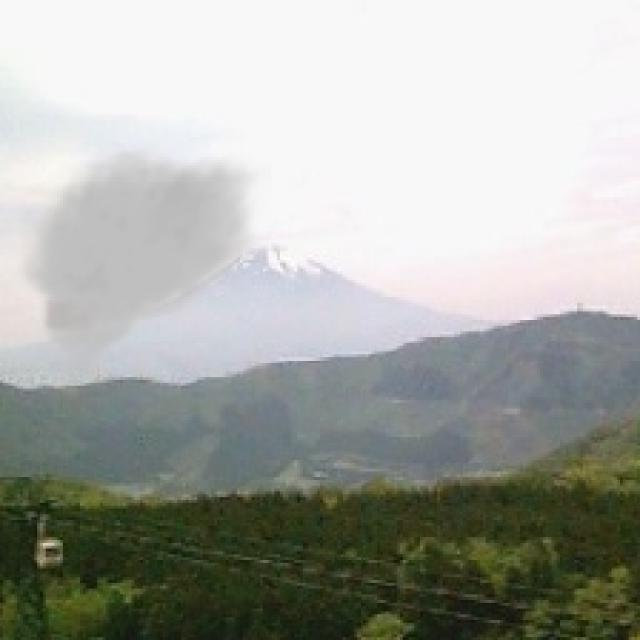smoke: (12, 143, 272, 403)
